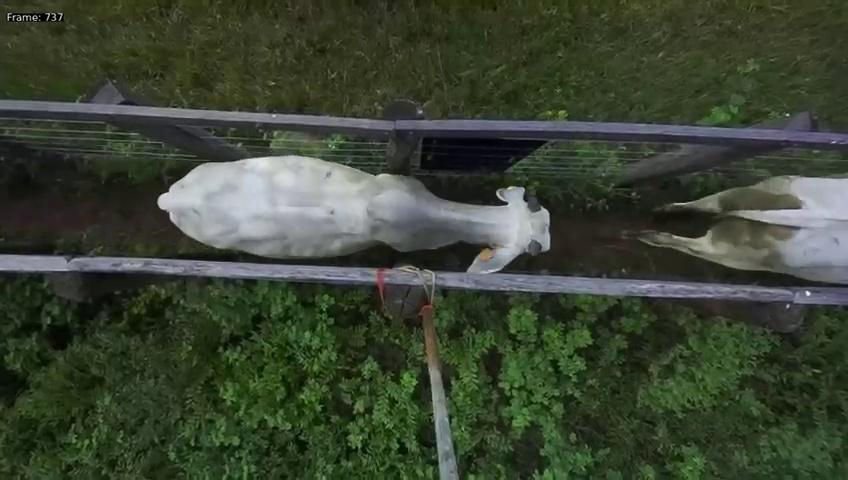cattle: (155, 130, 551, 271)
